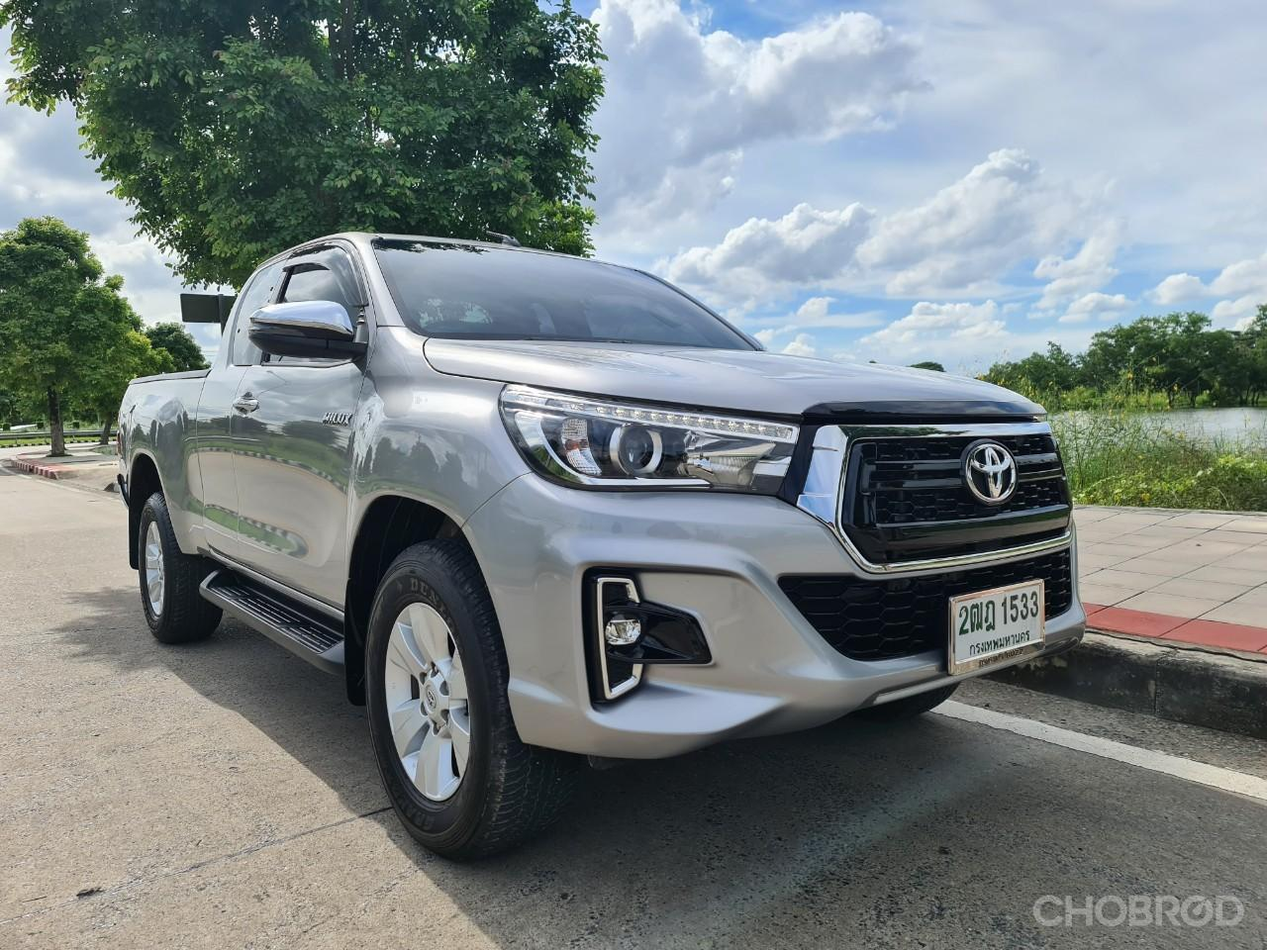license-plate: (940, 578, 1050, 681)
